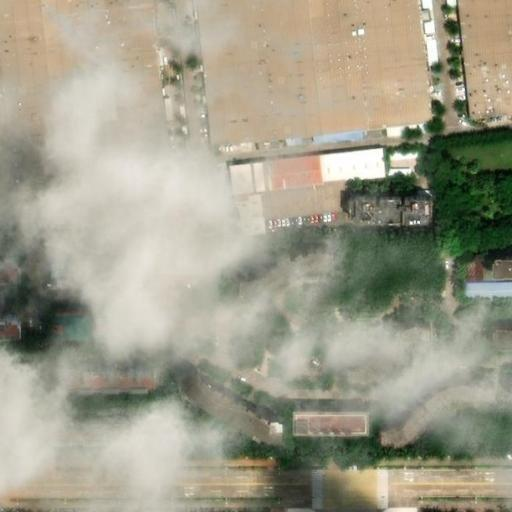building: (196, 0, 436, 151), (179, 374, 286, 444), (382, 380, 498, 441), (347, 319, 432, 378), (242, 249, 329, 293), (53, 252, 203, 273), (46, 372, 156, 396), (322, 150, 385, 185), (352, 197, 436, 222), (46, 423, 140, 444), (299, 408, 373, 433), (273, 159, 325, 194), (232, 166, 276, 198), (233, 195, 265, 234), (384, 145, 421, 177), (461, 283, 512, 304), (204, 210, 229, 237), (0, 308, 21, 334), (163, 421, 183, 447), (205, 189, 219, 213), (497, 254, 512, 275), (461, 268, 481, 283), (499, 328, 512, 349), (202, 173, 217, 191)
